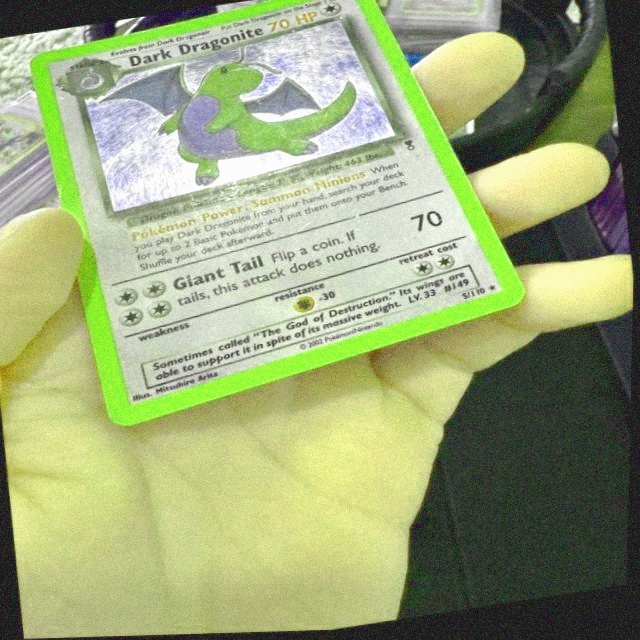card: (28, 0, 527, 427)
